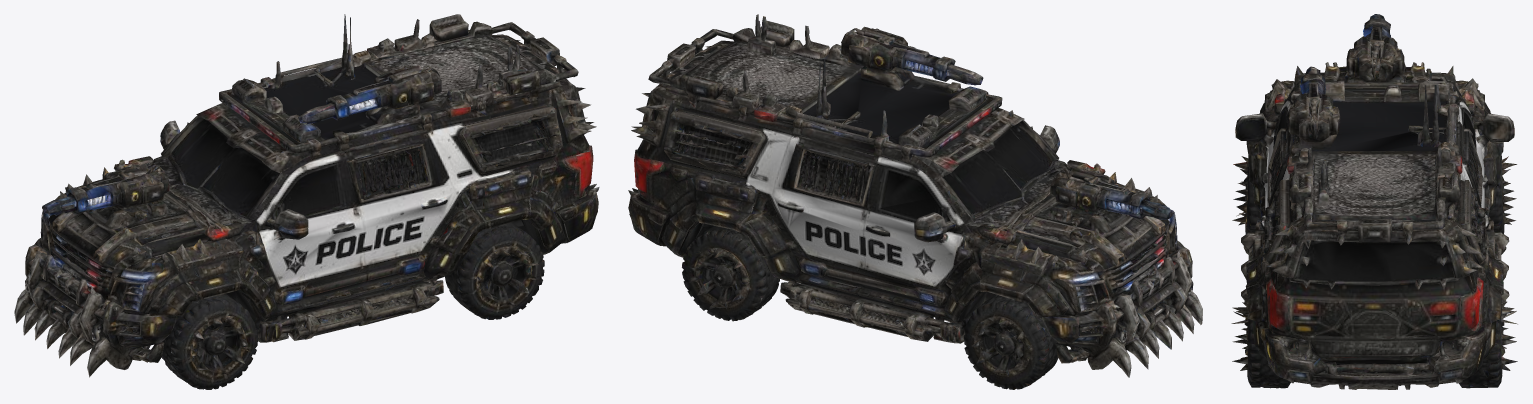
The model's file is siren.glb.
3 renders of one model, left to right at view 1: azimuth 30°, elevation 25°; view 2: azimuth 150°, elevation 25°; view 3: azimuth 270°, elevation 25°, orthographic. The views are drawn at different scales.
Visible parts, largest first — view 1: Mesh_0; view 2: Mesh_0; view 3: Mesh_0.
Part boxes in pixels (bbox=[...]): Mesh_0: bbox=[14, 14, 599, 389]; Mesh_0: bbox=[628, 14, 1202, 389]; Mesh_0: bbox=[1231, 14, 1517, 389].
Size of the model in its own units: 1.89 by 0.9002 by 0.8871.
1 material, 1 textured.
